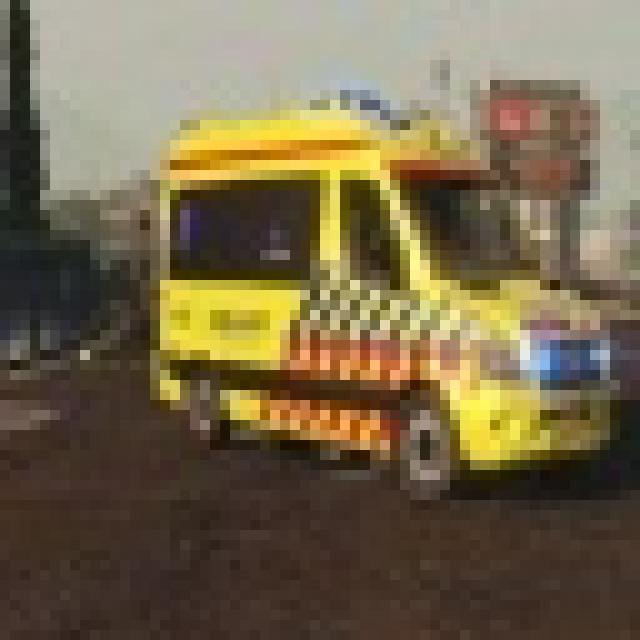Ambulance: (140, 80, 620, 500)
